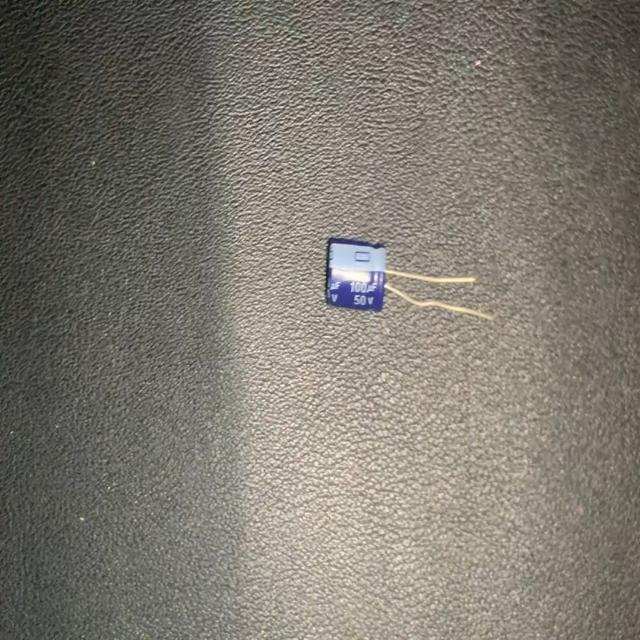capacitor: (322, 221, 498, 334)
